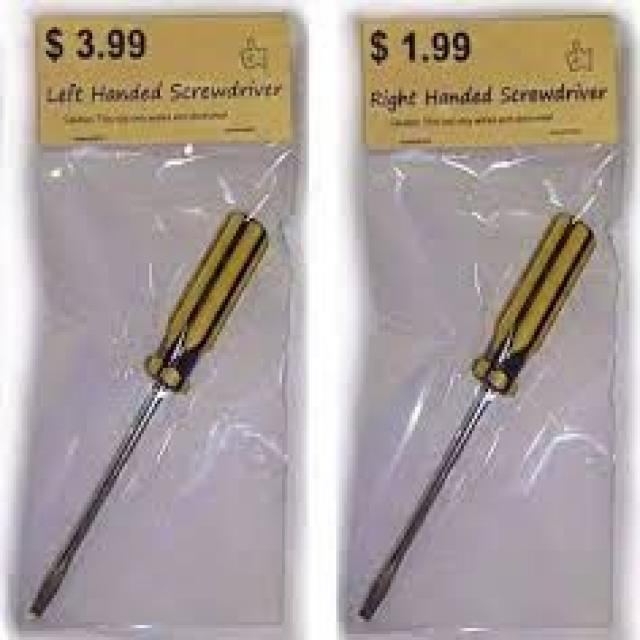screwdriver: (22, 209, 276, 622), (358, 207, 597, 624)
